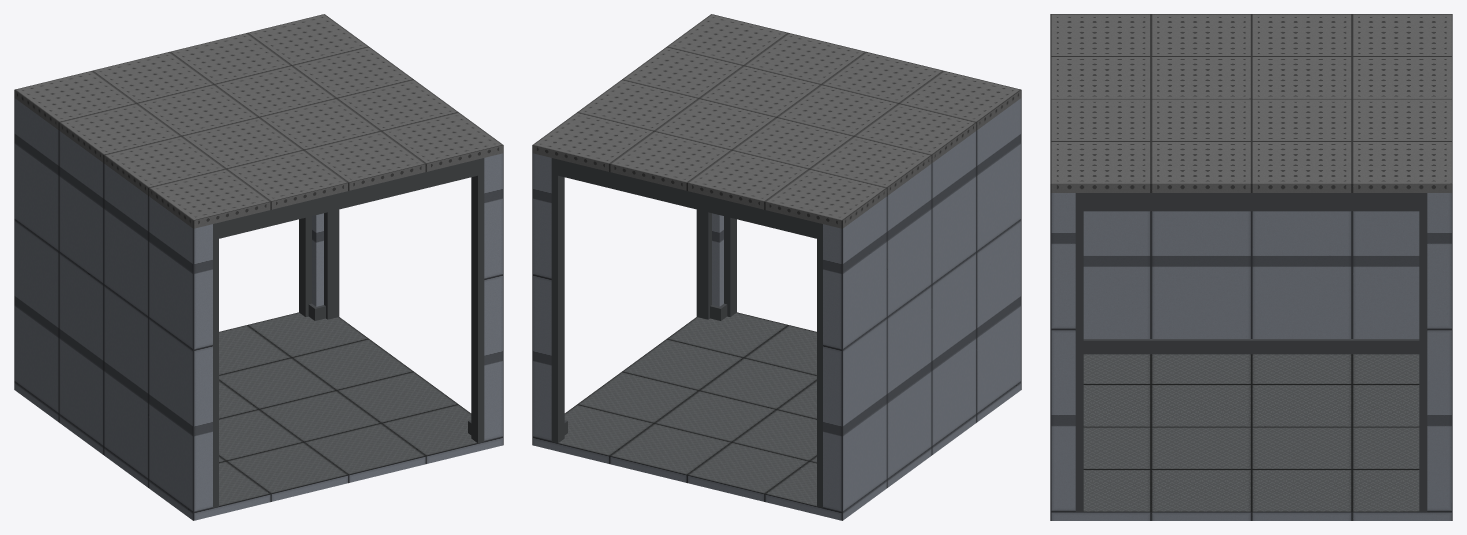
File: Corridor_SciFi_T.glb
3 renders of one model, left to right at view 1: azimuth 30°, elevation 25°; view 2: azimuth 150°, elevation 25°; view 3: azimuth 270°, elevation 25°, orthographic. The views are drawn at different scales.
Parts seen in each view (by area): view 1: Corridor_SciFi_T, Corridor_SciFi_T_Ceiling; view 2: Corridor_SciFi_T, Corridor_SciFi_T_Ceiling; view 3: Corridor_SciFi_T, Corridor_SciFi_T_Ceiling.
Boxes of the visible parts, x1,y1,x2,y2 form: Corridor_SciFi_T: (14, 98, 503, 520); Corridor_SciFi_T_Ceiling: (14, 14, 503, 238); Corridor_SciFi_T: (532, 98, 1021, 520); Corridor_SciFi_T_Ceiling: (532, 14, 1021, 238); Corridor_SciFi_T: (1050, 193, 1452, 520); Corridor_SciFi_T_Ceiling: (1050, 14, 1452, 211).
Size of the model in its own units: 4 by 3.7 by 4.
Materials: 6 (3 with a texture image).
